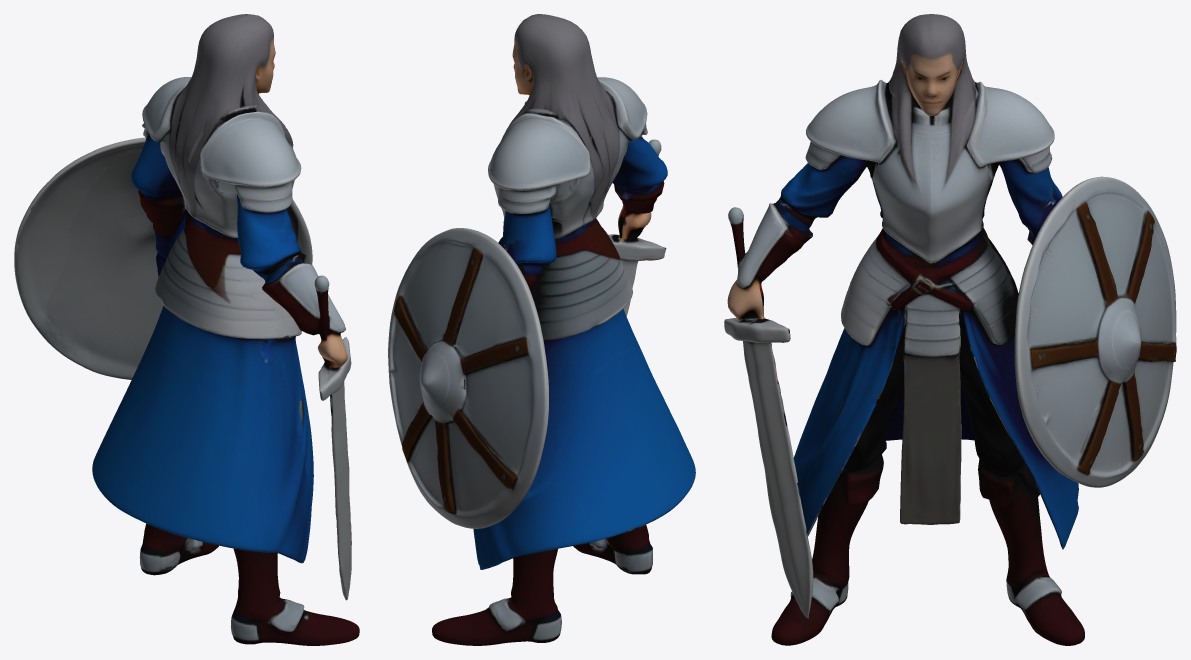
The model's file is Dolan.fbx.
3 renders of one model, left to right at view 1: azimuth 30°, elevation 25°; view 2: azimuth 150°, elevation 25°; view 3: azimuth 270°, elevation 25°, orthographic. The views are drawn at different scales.
Visible parts, largest first — view 1: tripo_node_047f49ca; view 2: tripo_node_047f49ca; view 3: tripo_node_047f49ca.
Part boxes in pixels (left/top/right/bottom): tripo_node_047f49ca: left=14, top=14, right=359, bottom=645; tripo_node_047f49ca: left=388, top=14, right=695, bottom=645; tripo_node_047f49ca: left=724, top=14, right=1176, bottom=645.
Size of the model in its own units: 0.4304 by 1 by 0.6779.
Materials: 1 (1 with a texture image).
